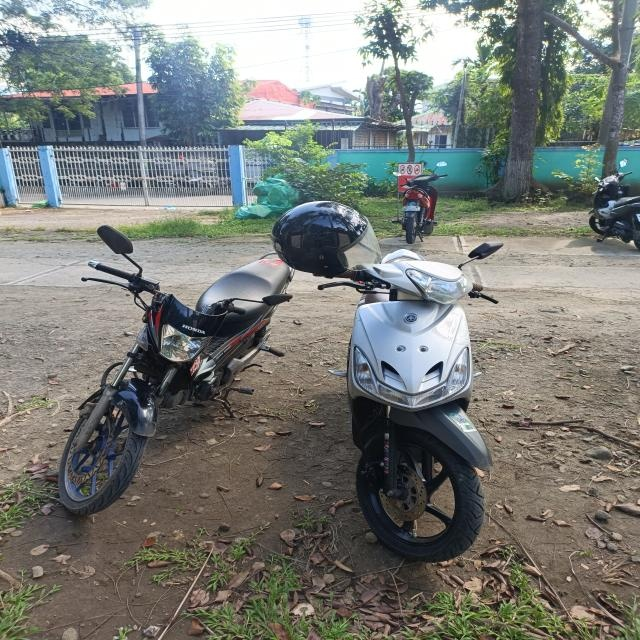Motorcycle: (269, 198, 512, 566), (49, 222, 298, 521), (387, 158, 454, 245), (582, 153, 640, 251)
